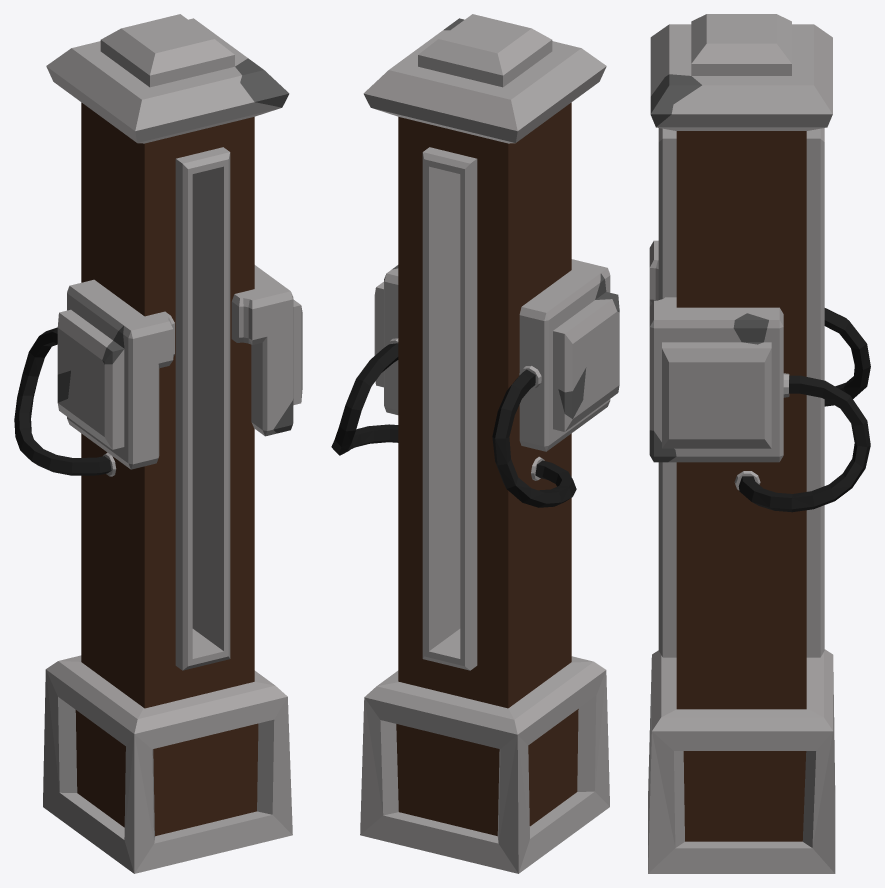
Rendered from SawBladeThower.fbx.
3 views of the same model, side by side, from view 1: azimuth 30°, elevation 25°; view 2: azimuth 150°, elevation 25°; view 3: azimuth 270°, elevation 25° (orthographic). The views are drawn at different scales.
Parts seen in each view (by area): view 1: SawBladeThower; view 2: SawBladeThower; view 3: SawBladeThower.
Boxes of the visible parts, x1,y1,x2,y2 form: SawBladeThower: [14, 14, 302, 873]; SawBladeThower: [331, 14, 619, 873]; SawBladeThower: [648, 14, 870, 873].
Size of the model in its own units: 58.28 by 195 by 48.97.
